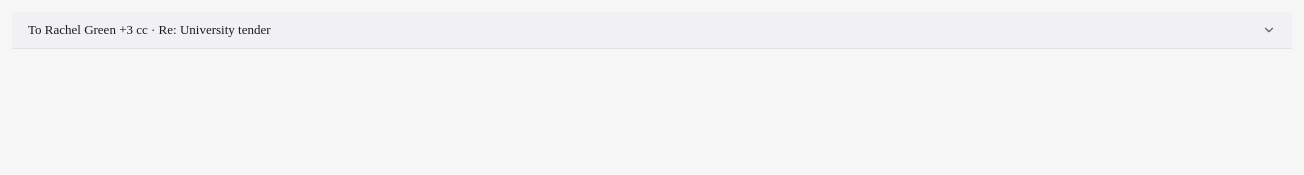
Test: email reply addressing › folds into one summary line with Bcc hidden until asked for
Later steps or results of the test are not shown.
Click the button "To Rachel Green +3 cc · Re: University tender" at (149, 30), box top-left (12, 12), bottom-right (1292, 48)
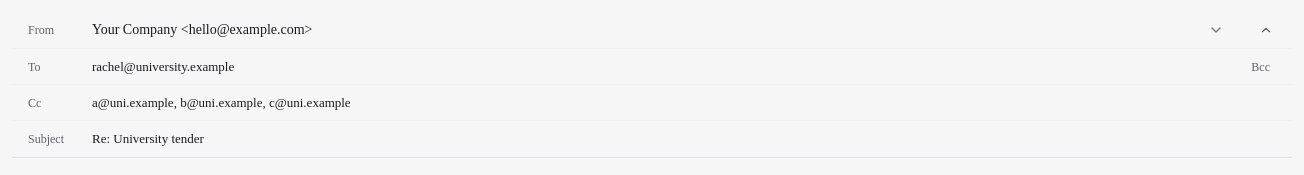
Result: the field labelled "To" is shown at top-left (92, 50), bottom-right (1237, 82)
